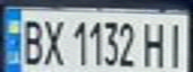1: (84, 17, 106, 66), (66, 16, 87, 66)
2: (118, 17, 142, 69)
3: (103, 17, 121, 66)
B: (15, 15, 45, 66)
H: (139, 18, 169, 69)
I: (160, 18, 190, 69)
X: (39, 15, 69, 66)
